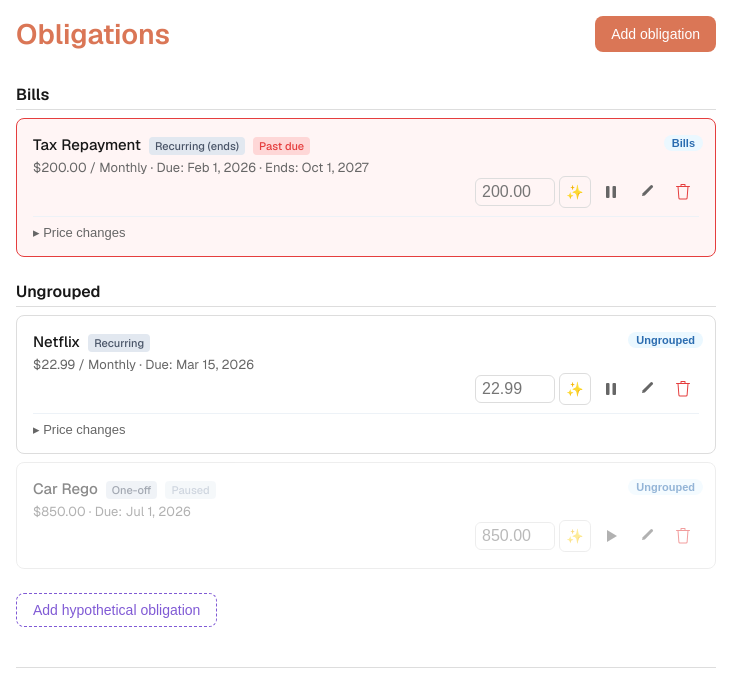
Test: ObligationsPage › shows 'Add price change' button in expanded escalation section
Check: the text "Netflix" is shown, box [33,332,80,351]
Click the button with aria-label "Toggle escalation rules for Netflix" at (79, 430), box [33,422,126,437]
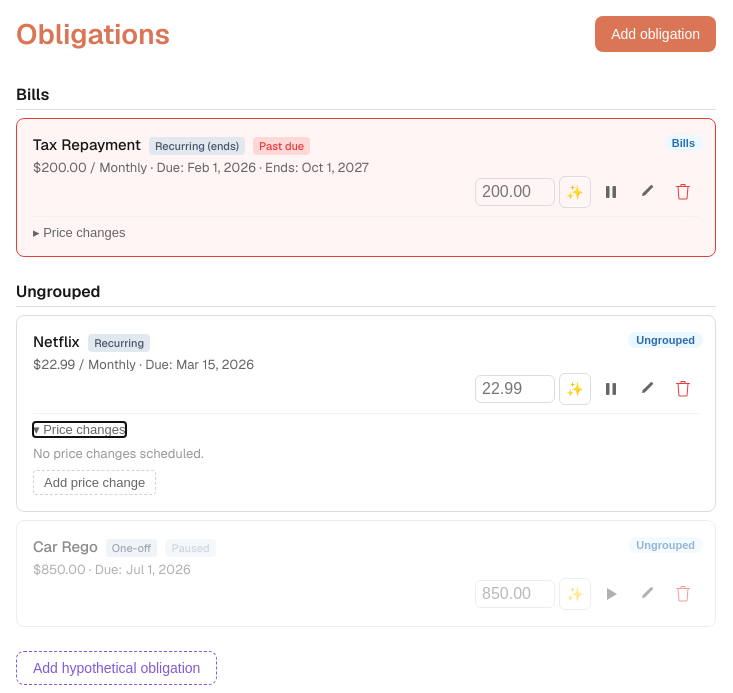
Check: the button "Add price change" is shown, box [33,470,156,495]
